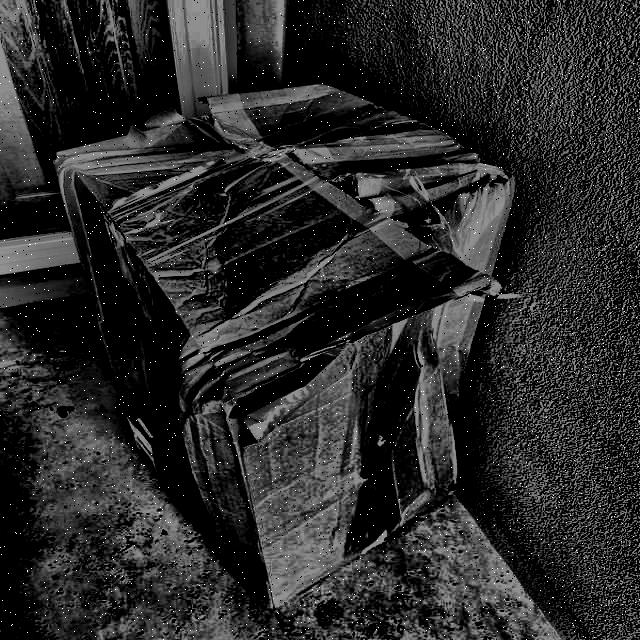box: (35, 75, 533, 629)
hole: (220, 362, 319, 459)
